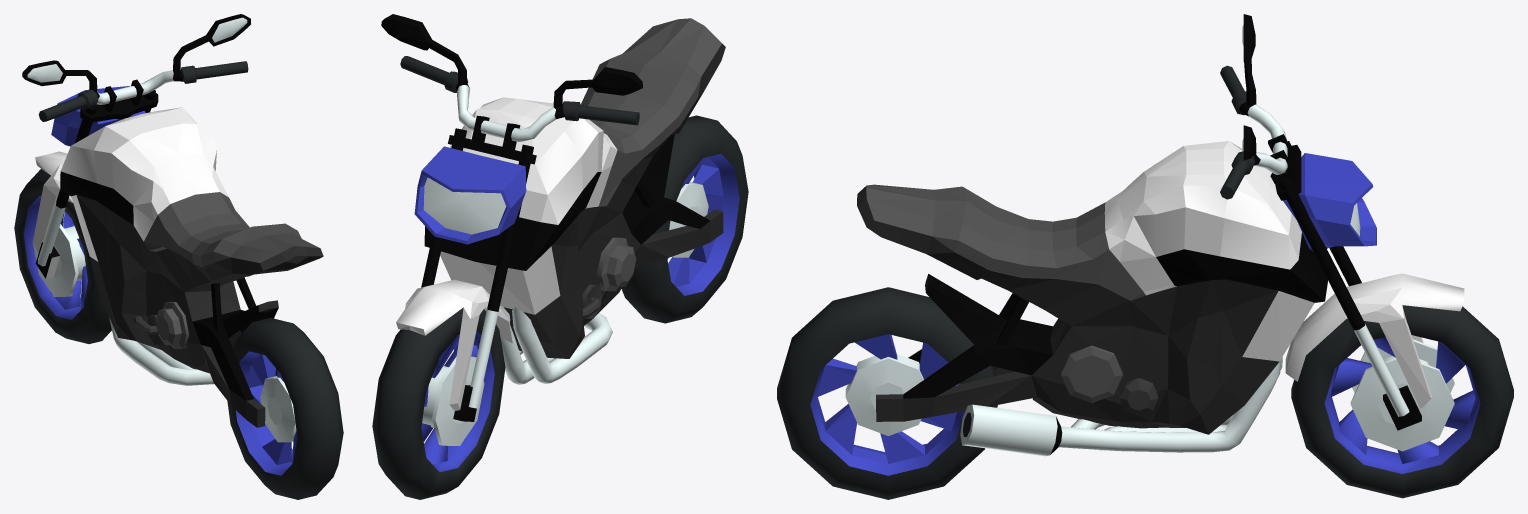
File: Bike.FBX
The picture shows the model from 3 angles, left to right: view 1: azimuth 30°, elevation 25°; view 2: azimuth 150°, elevation 25°; view 3: azimuth 270°, elevation 25°; orthographic projection. The views are drawn at different scales.
Visible parts, largest first — view 1: Bike, BikeWheelBack, BikeWheel; view 2: Bike, BikeWheel, BikeWheelBack; view 3: Bike, BikeWheel, BikeWheelBack.
Part boxes in pixels (box(x1,y1,x2,y2)): Bike: box(22, 14, 323, 427); BikeWheelBack: box(227, 318, 343, 499); BikeWheel: box(14, 169, 111, 343); Bike: box(381, 14, 725, 421); BikeWheel: box(372, 307, 505, 499); BikeWheelBack: box(621, 115, 748, 323); Bike: box(857, 14, 1464, 456); BikeWheel: box(1291, 305, 1513, 498); BikeWheelBack: box(777, 287, 997, 499).
Bounding box in the file's own units: 0.0231 × 0.0536 × 0.0335.
Materials: 1 (1 with a texture image).
